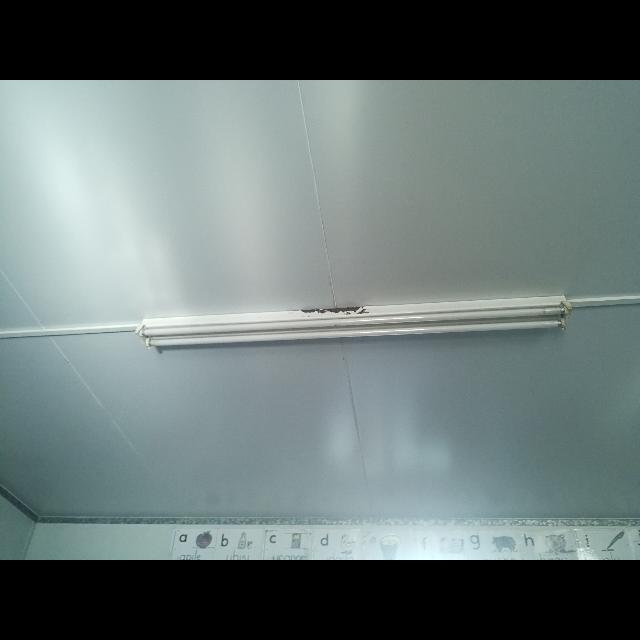Straight-Tube-Fluorescent-Lamp: (138, 288, 580, 358)
